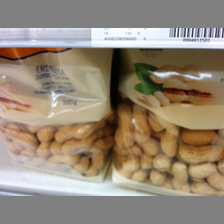nuts: (113, 48, 224, 196), (1, 48, 114, 183)
